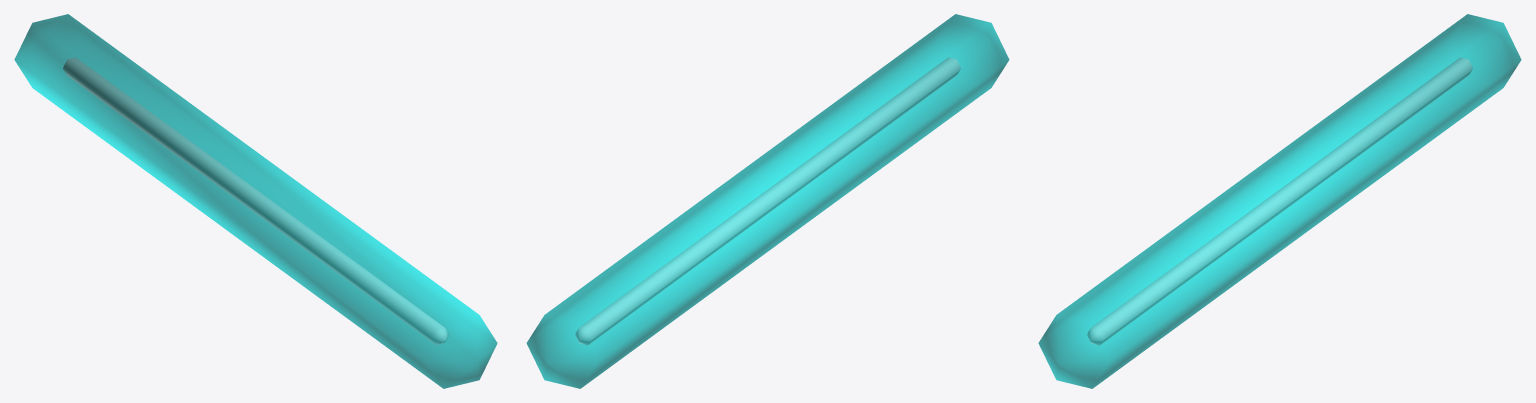
The model's file is cyan_turret_laser_model.fbx.
The picture shows the model from 3 angles, left to right: view 1: azimuth 30°, elevation 25°; view 2: azimuth 150°, elevation 25°; view 3: azimuth 330°, elevation 25°; orthographic projection.
Parts seen in each view (by area): view 1: glow, bolt; view 2: glow, bolt; view 3: glow, bolt.
Part boxes in pixels (box(x1,y1,x2,y2)): glow: box(14, 14, 497, 388); bolt: box(63, 57, 448, 345); glow: box(526, 14, 1009, 388); bolt: box(575, 57, 960, 345); glow: box(1038, 14, 1521, 388); bolt: box(1087, 57, 1472, 345).
Bounding box in the file's own units: 7.56 × 6.55 × 80.08.
